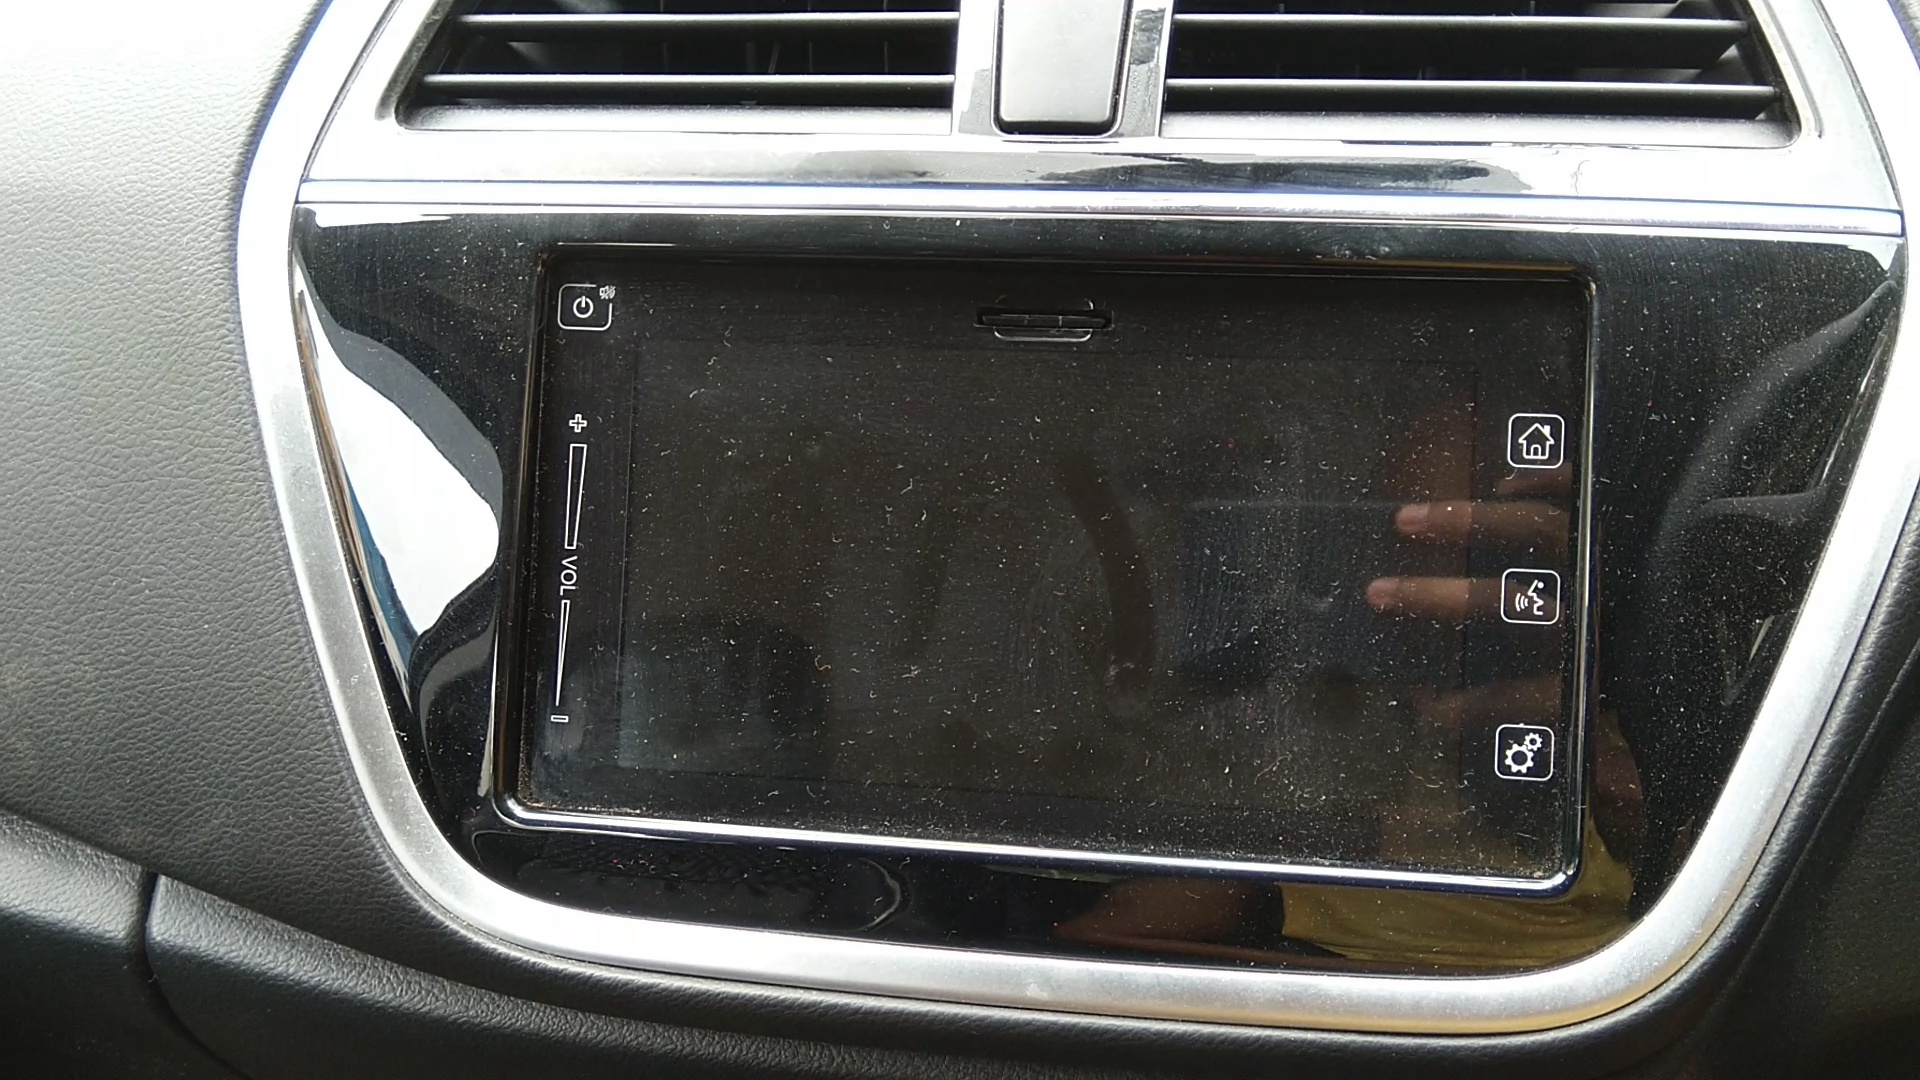touch_infotainment: (479, 225, 1601, 897)
